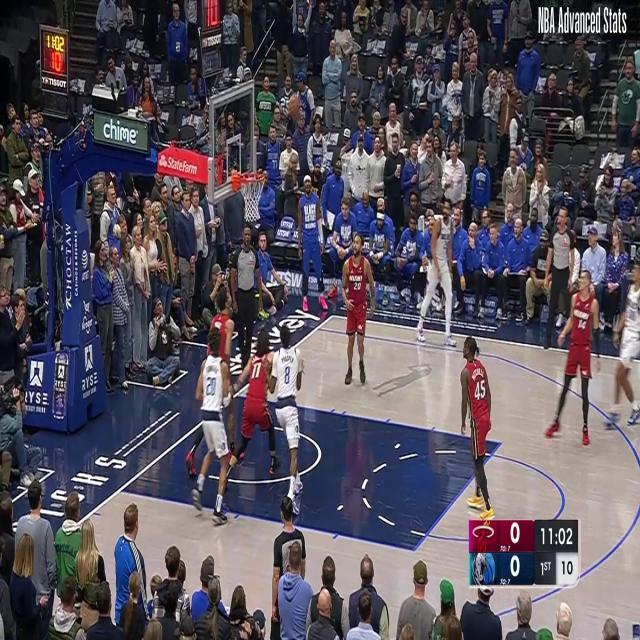ball: (285, 94, 301, 121)
judge: (271, 494, 307, 630), (232, 226, 262, 382)
player: (221, 328, 282, 502), (546, 270, 598, 436), (192, 330, 234, 527), (267, 327, 305, 507), (460, 343, 494, 518), (606, 263, 640, 433), (419, 205, 457, 353), (340, 238, 375, 385)
